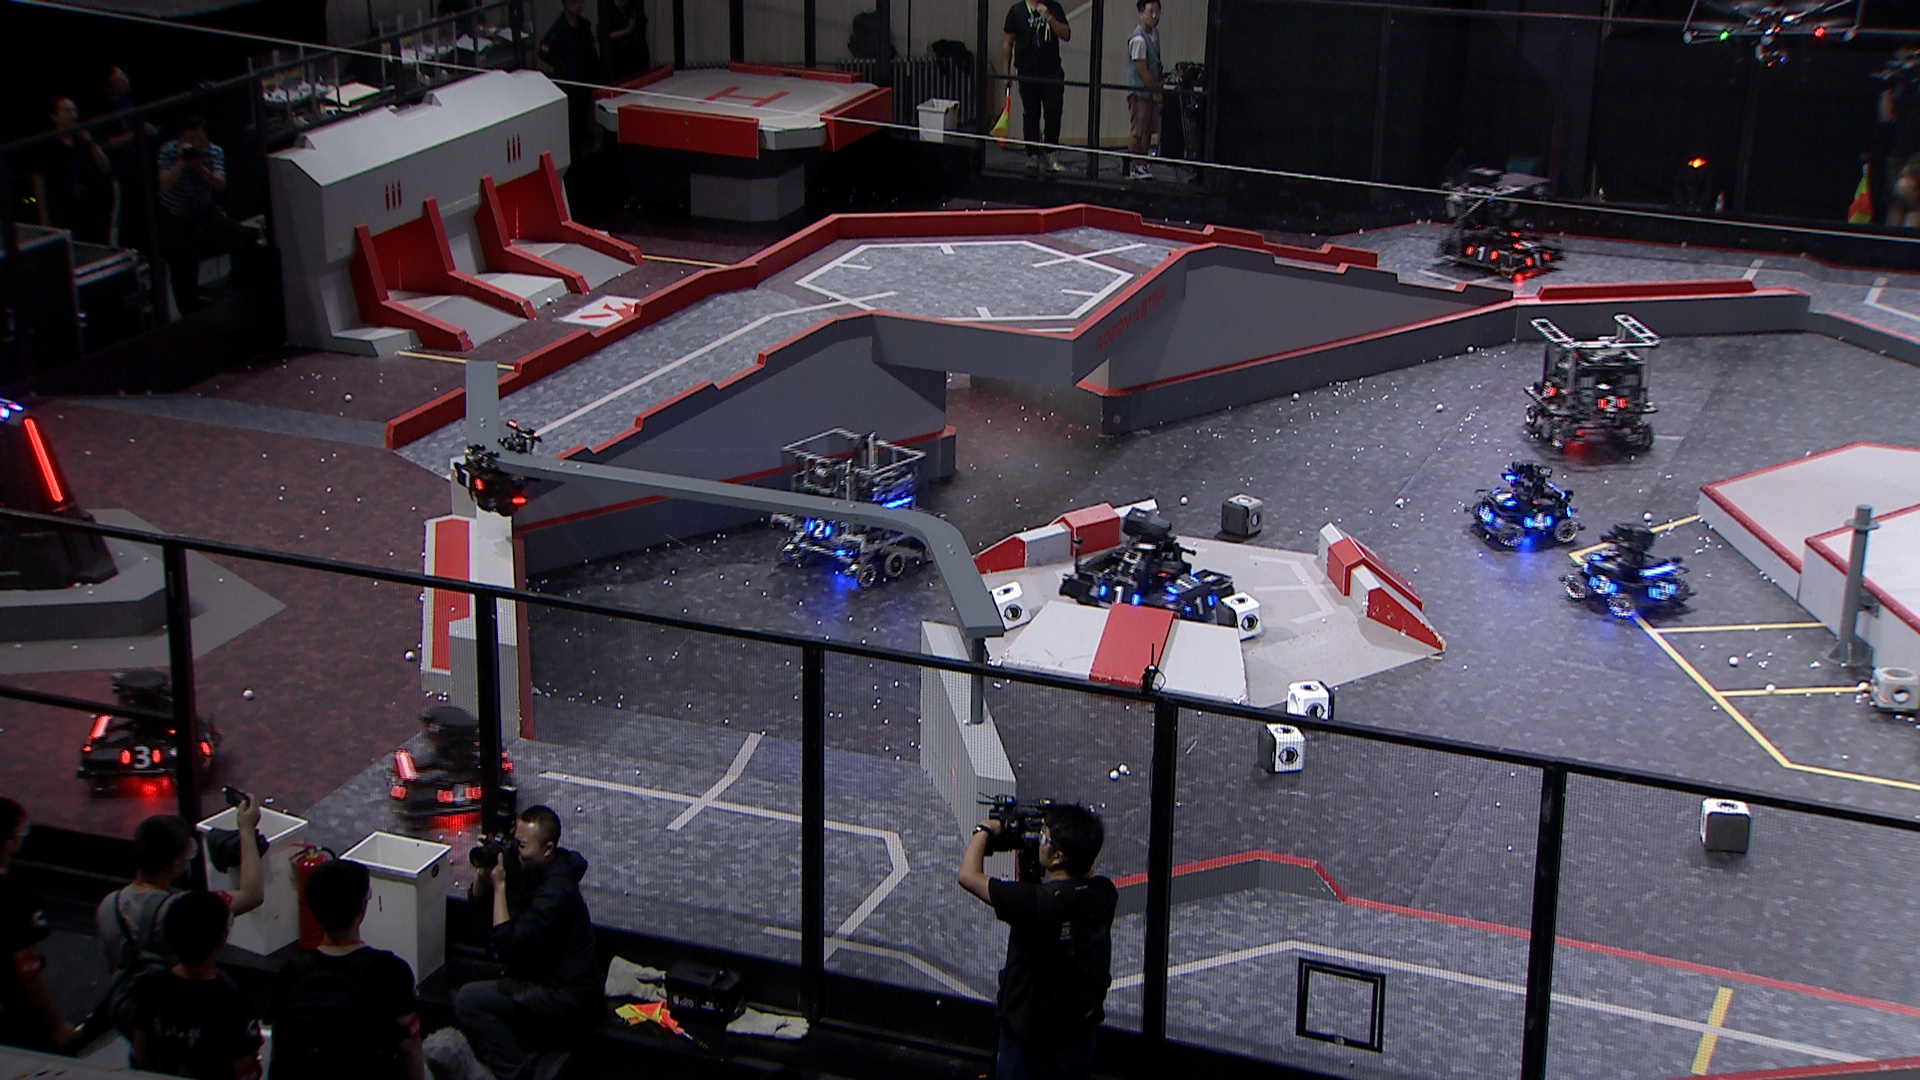armor: (22, 415, 65, 505), (120, 744, 166, 770), (436, 782, 483, 808), (454, 462, 485, 493), (1098, 584, 1141, 605), (1182, 593, 1216, 617), (1647, 582, 1679, 604), (1166, 576, 1201, 595), (806, 518, 835, 541), (1466, 244, 1501, 262), (1590, 575, 1617, 599), (386, 773, 407, 802), (1596, 396, 1629, 414), (1523, 512, 1553, 531), (1490, 488, 1516, 510), (1476, 505, 1498, 527), (1592, 547, 1621, 564), (200, 731, 220, 756), (1524, 251, 1552, 268), (1542, 381, 1561, 400), (1513, 239, 1544, 249)
car: (773, 429, 949, 591), (1063, 509, 1238, 629), (1519, 313, 1662, 458), (76, 669, 224, 789), (386, 704, 520, 828), (1556, 520, 1698, 622), (1437, 169, 1567, 281), (1465, 458, 1586, 547)
watcher: (454, 418, 546, 518)
